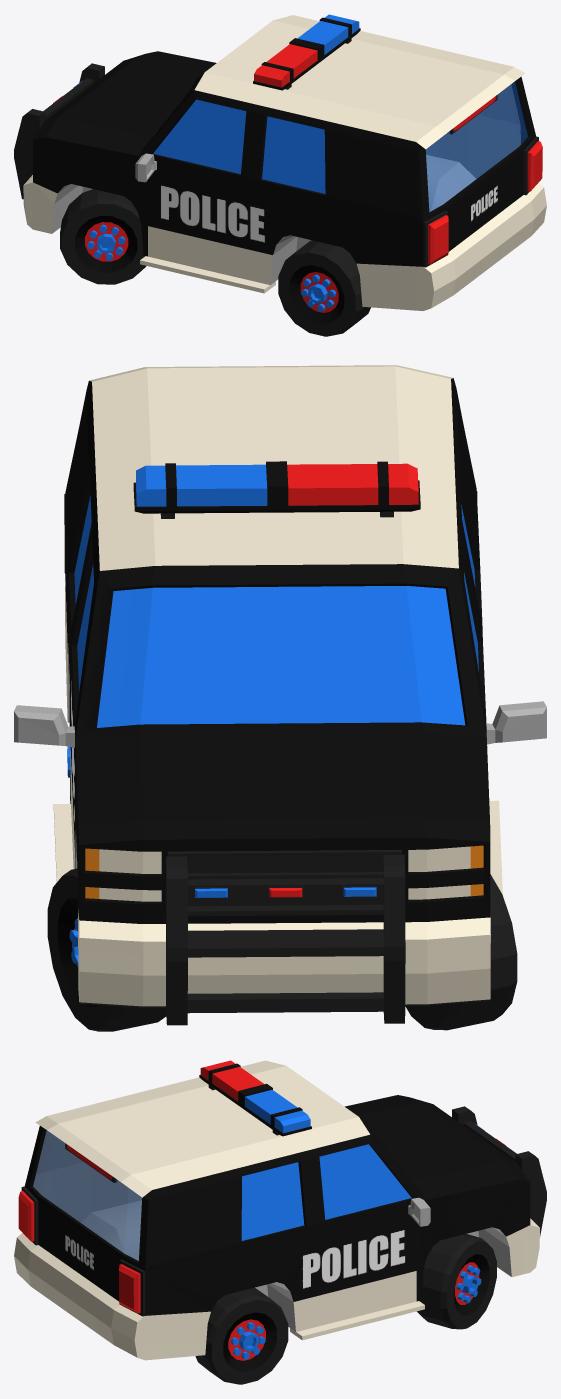
The model's file is police car.fbx.
The picture shows the model from 3 angles, top to bottom: view 1: azimuth 30°, elevation 25°; view 2: azimuth 150°, elevation 25°; view 3: azimuth 270°, elevation 25°; orthographic projection. The views are drawn at different scales.
Parts seen in each view (by area): view 1: police_car, pPlane1; view 2: police_car; view 3: police_car, pPlane1.
Boxes of the visible parts, <box> form: police_car: <box>14,14,546,336</box>; pPlane1: <box>281,84,520,239</box>; police_car: <box>14,365,546,1031</box>; police_car: <box>14,1060,546,1384</box>; pPlane1: <box>33,1130,142,1260</box>.
Size of the model in its own units: 14.63 by 8.6 by 17.55.
Materials: 3 (2 with a texture image).
